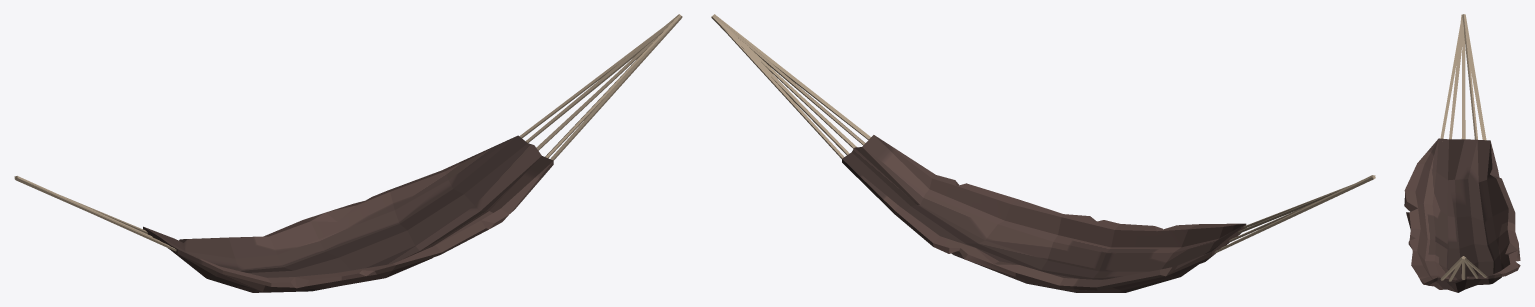
Rendered from SM_Prop_Hammock_02.fbx.
The picture shows the model from 3 angles, left to right: view 1: azimuth 30°, elevation 25°; view 2: azimuth 150°, elevation 25°; view 3: azimuth 270°, elevation 25°; orthographic projection. The views are drawn at different scales.
Parts seen in each view (by area): view 1: SM_Prop_Hammock_02; view 2: SM_Prop_Hammock_02; view 3: SM_Prop_Hammock_02.
Part boxes in pixels (left/top/right/bottom): SM_Prop_Hammock_02: left=14, top=14, right=682, bottom=292; SM_Prop_Hammock_02: left=711, top=14, right=1375, bottom=292; SM_Prop_Hammock_02: left=1404, top=14, right=1520, bottom=292.
Size of the model in its own units: 549 by 144 by 111.
